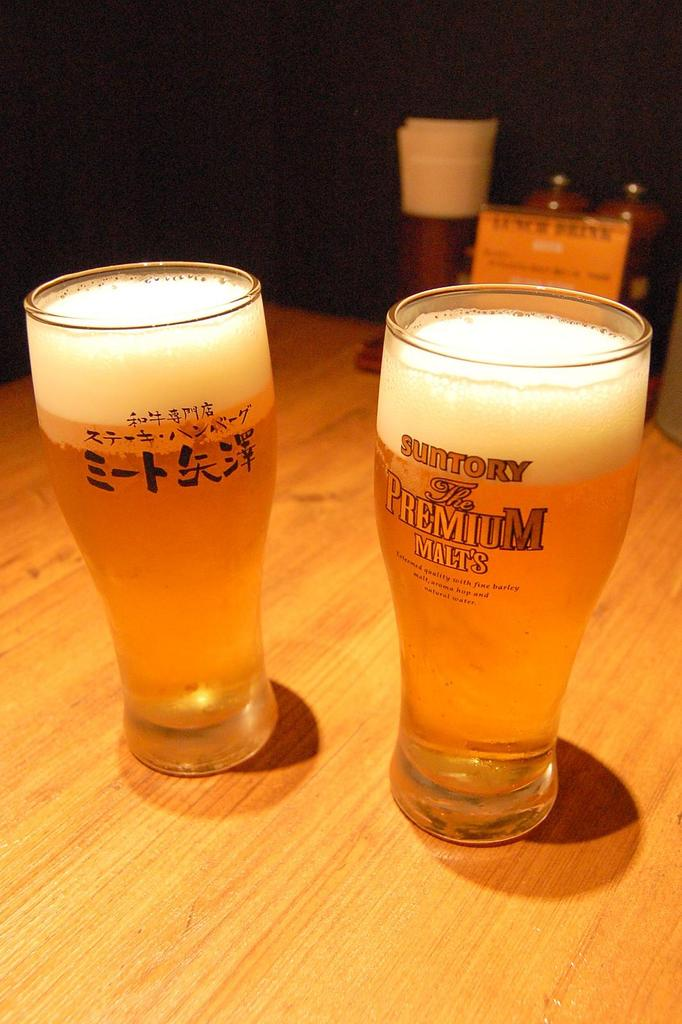Beer: (381, 256, 681, 853), (12, 244, 303, 830)
